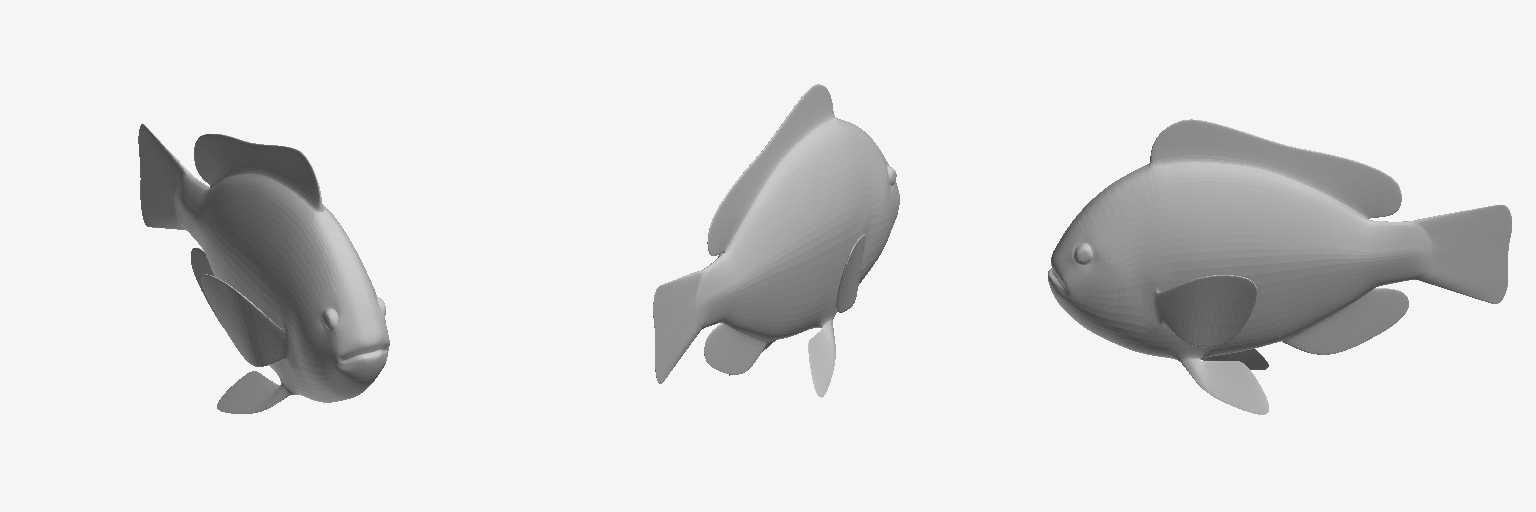
File: poisson.obj
3 renders of one model, left to right at view 1: azimuth 30°, elevation 25°; view 2: azimuth 150°, elevation 25°; view 3: azimuth 270°, elevation 25°, orthographic.
Bounding box in the file's own units: 0.6791 × 1.3 × 2.01.